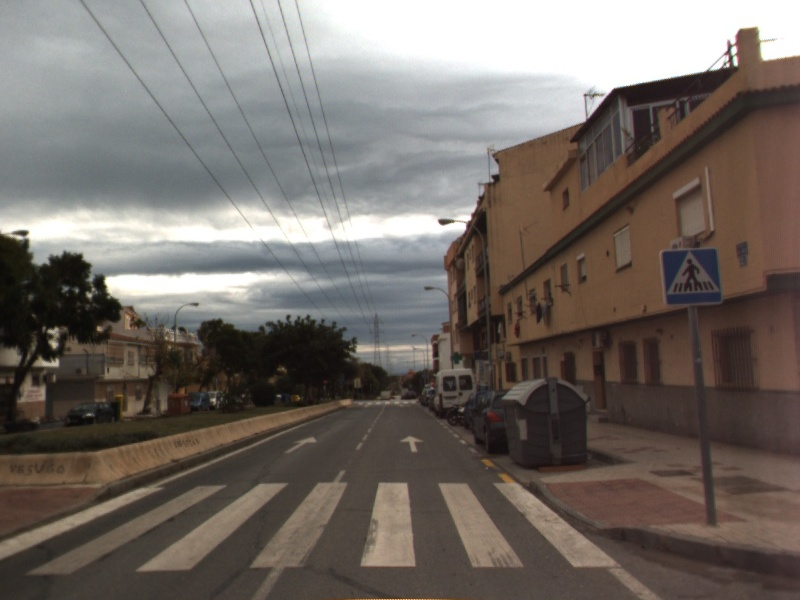STRAIGHT: (282, 434, 320, 455), (398, 433, 427, 454)
